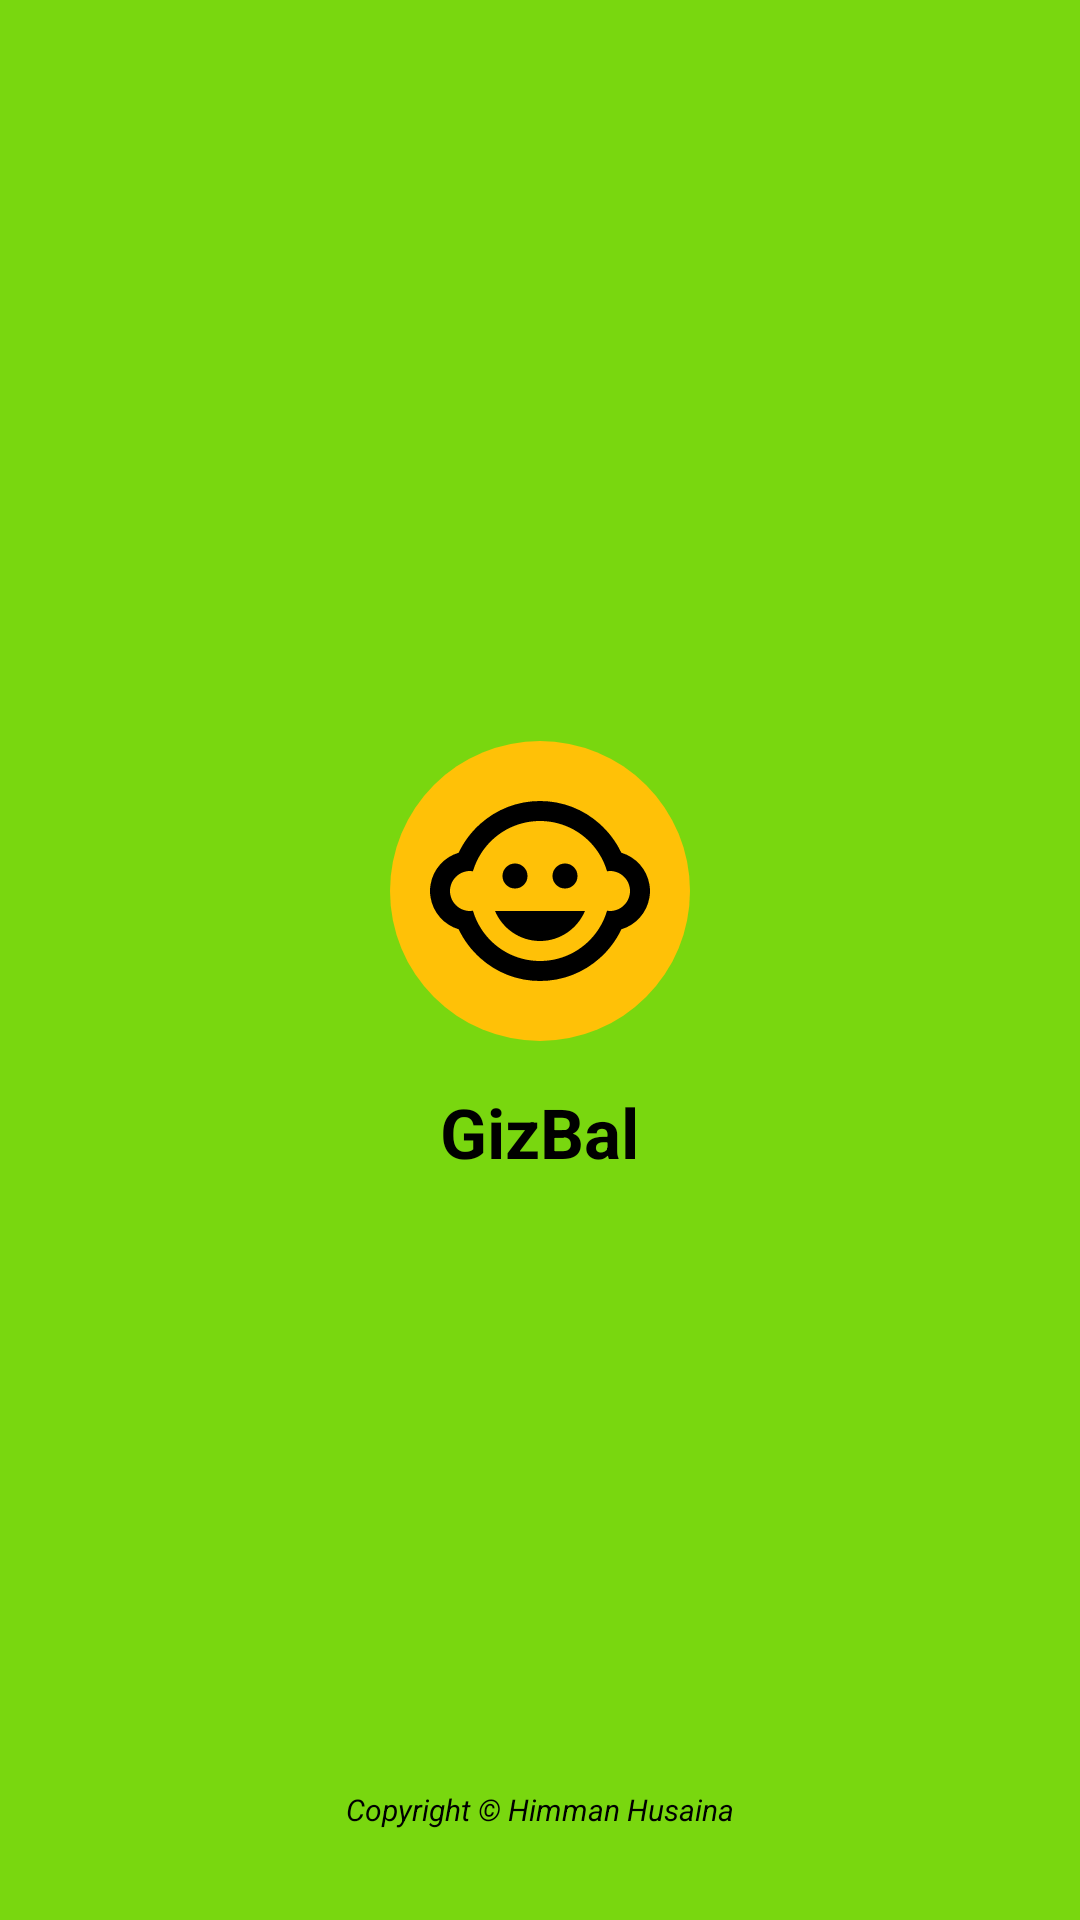

Icon click points for this 1080x1920 phone screenshot, format (x=x, y=y):
child care: (x=540, y=891)
